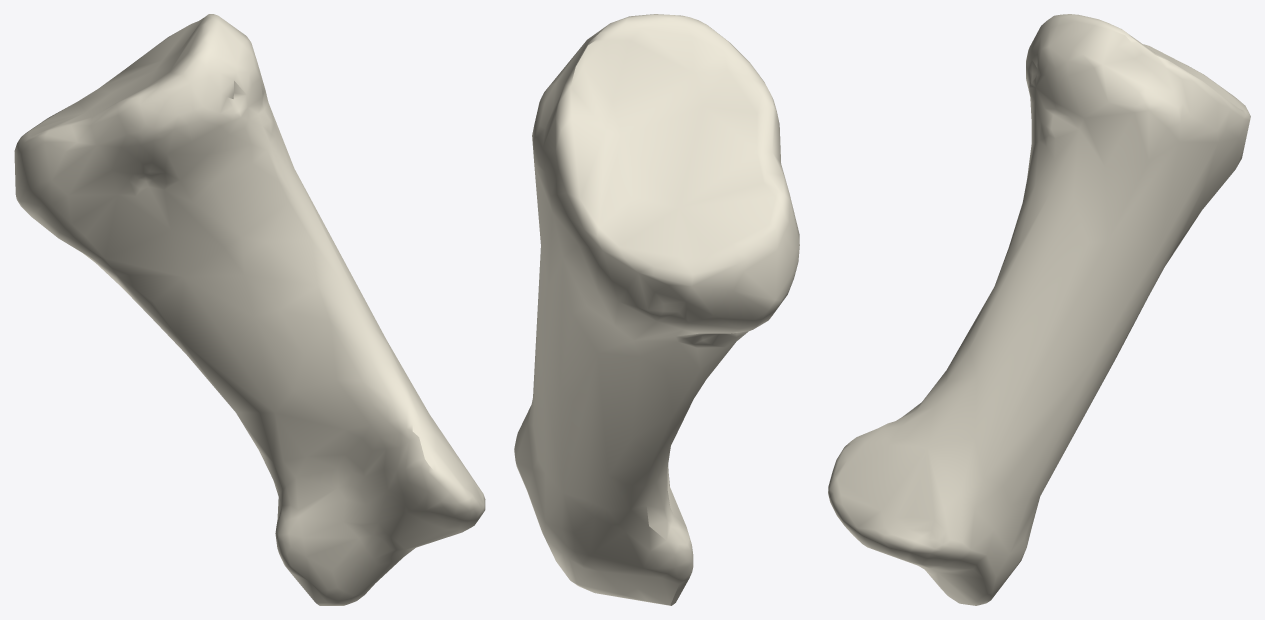
File: fma65470.glb
3 views of the same model, side by side, from view 1: azimuth 30°, elevation 25°; view 2: azimuth 150°, elevation 25°; view 3: azimuth 270°, elevation 25° (orthographic). The views are drawn at different scales.
Parts seen in each view (by area): view 1: FMA65470; view 2: FMA65470; view 3: FMA65470.
Boxes of the visible parts, x1,y1,x2,y2 form: FMA65470: (14,14,485,605); FMA65470: (514,14,799,605); FMA65470: (828,14,1250,605).
Bounding box in the file's own units: 0.0203 × 0.0319 × 0.0224.
